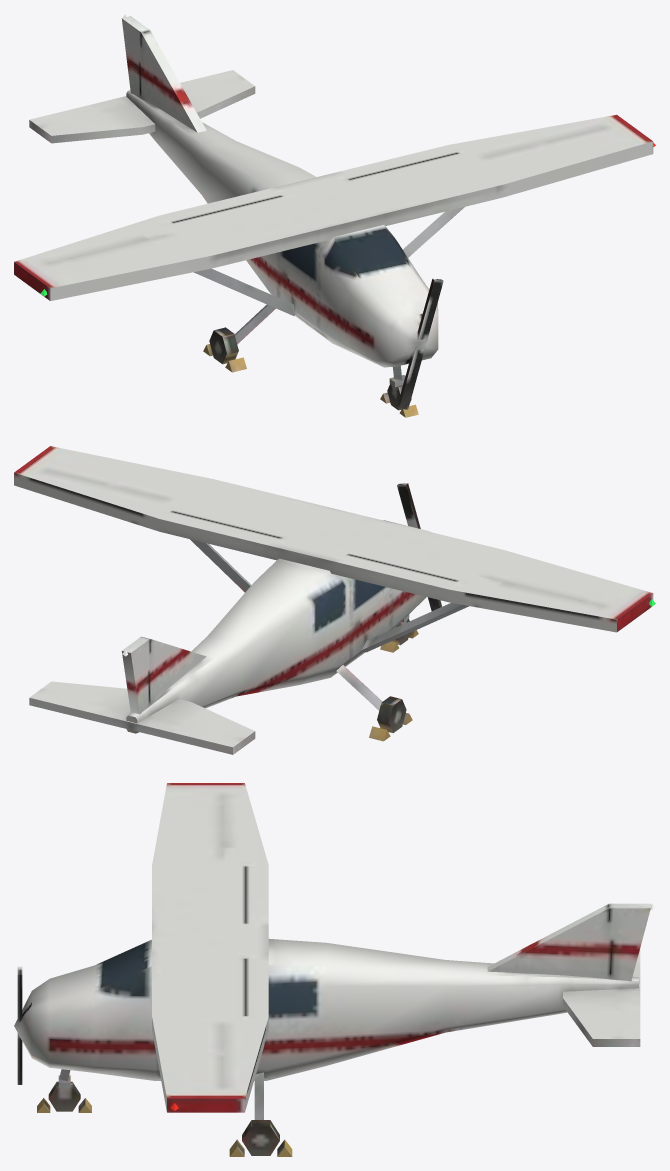
The model's file is parked_plane.glb.
The picture shows the model from 3 angles, top to bottom: view 1: azimuth 30°, elevation 25°; view 2: azimuth 150°, elevation 25°; view 3: azimuth 270°, elevation 25°; orthographic projection. The views are drawn at different scales.
Visible parts, largest first — view 1: parked_plane_body; view 2: parked_plane_body; view 3: parked_plane_body.
Part boxes in pixels (x1=…): parked_plane_body: x1=14, y1=16, x2=653, y2=417; parked_plane_body: x1=14, y1=446, x2=653, y2=754; parked_plane_body: x1=14, y1=783, x2=650, y2=1156.
Bounding box in the file's own units: 51.09 × 15.3 × 43.15.
Materials: 2 (2 with a texture image).
